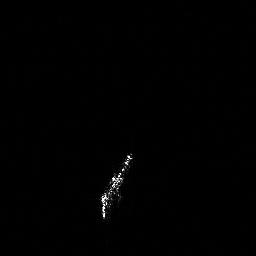ship: (95, 149, 137, 222)
